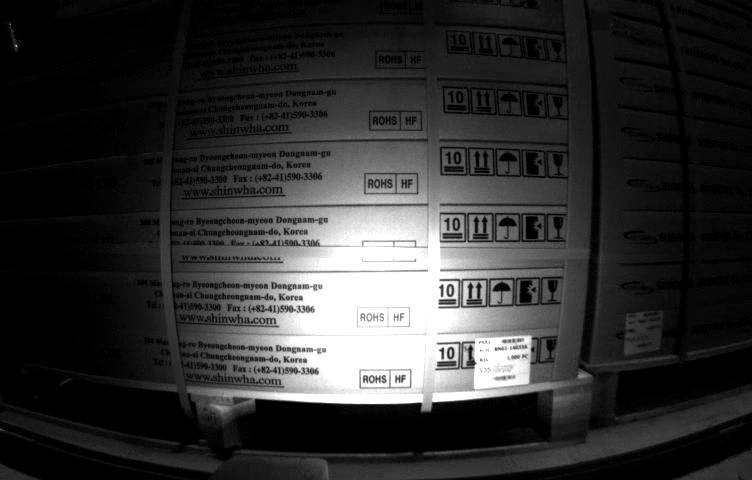True Barcode: (474, 338, 531, 387), (627, 311, 664, 352)
